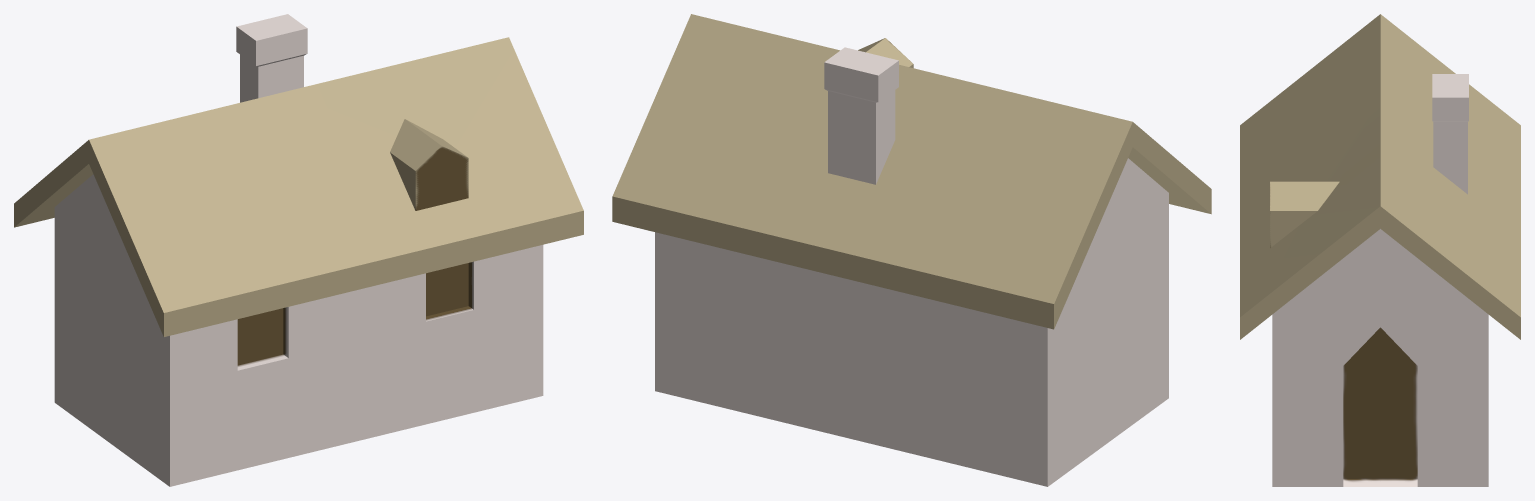
The model's file is House02.fbx.
3 views of the same model, side by side, from view 1: azimuth 30°, elevation 25°; view 2: azimuth 150°, elevation 25°; view 3: azimuth 270°, elevation 25° (orthographic). The views are drawn at different scales.
Visible parts, largest first — view 1: polySurface178; view 2: polySurface178; view 3: polySurface178.
Part boxes in pixels (x1,y1,x2,y2): polySurface178: (14, 14, 583, 486); polySurface178: (612, 14, 1211, 486); polySurface178: (1240, 14, 1520, 486).
Size of the model in its own units: 985 by 766 by 608.
